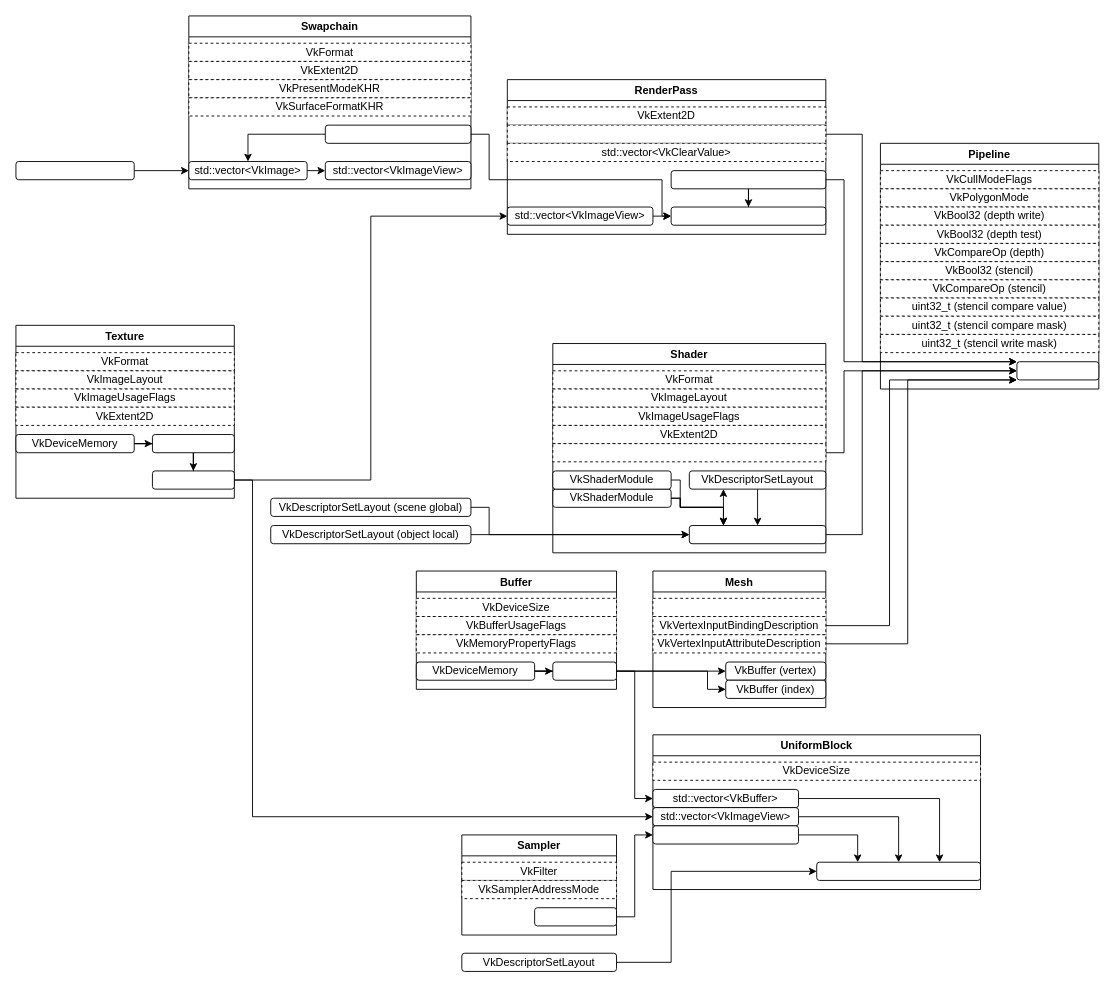
The diagram is 1115 pixels wide and 987 high, and some of its shapes have lost their labels. Here are the shapes that lost their labels. From the top down, the centre of each, then its label:
At [397,133]: "VkSwapchainKHR".
At [666,133]: "std::vector<VkAttachmentDescription>".
At [74,170]: "VkSurfaceKHR".
At [748,179]: "VkRenderPass".
At [748,215]: "std::vector<VkFramebuffer>".
At [1057,370]: "VkPipeline".
At [193,443]: "VkImage".
At [689,452]: "VkPipelineShaderStageCreateInfo".
At [193,479]: "VkImageView".
At [757,534]: "VkPipelineLayout".
At [739,607]: "size_t (indices)".
At [584,670]: "VkBuffer".
At [725,834]: "std::vector<VkSampler>".
At [898,870]: "std::vector<VkDescriptorSet>".
At [575,916]: "VkSampler".
